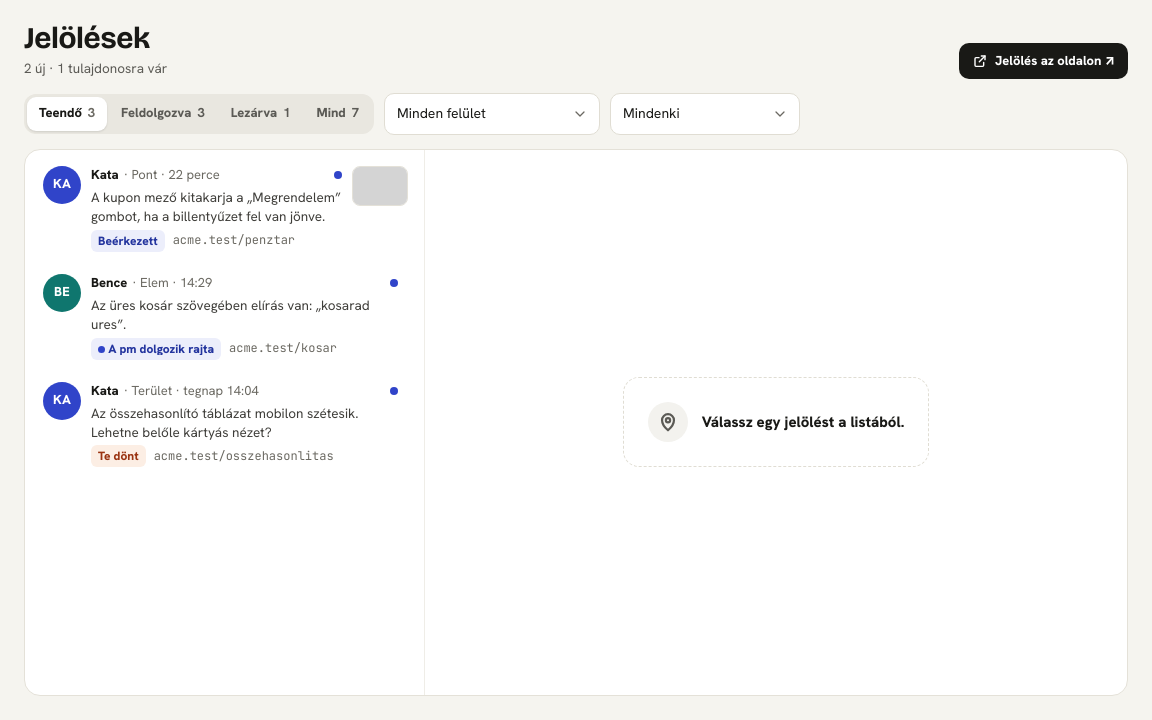
the mark list › opens a mark beside the list
The image size is (1152, 720).
Expected: the list named "Jelölések" is shown, [25,150,424,484]
Click the link "A kupon mező kitakarja": (224, 209) [31,156,418,262]
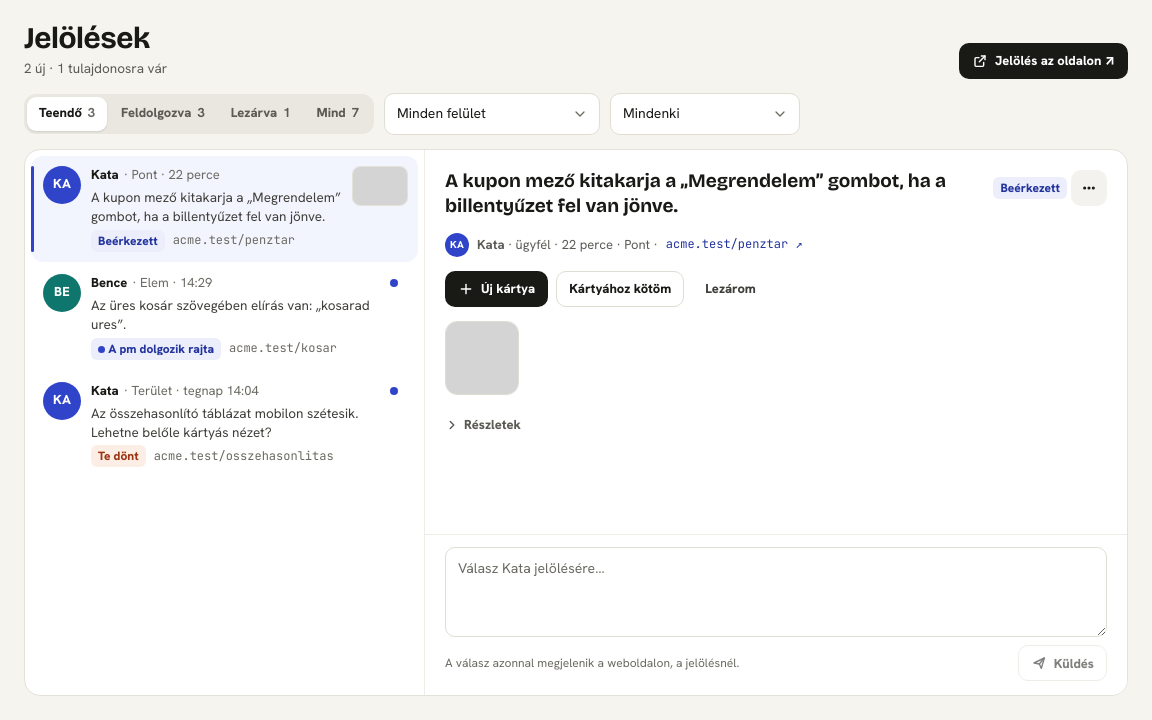
Expected: the heading "A kupon mező kitakarja" is shown, [445,168,981,219]
Expected: the heading "Részletek" is shown, [445,416,521,433]
